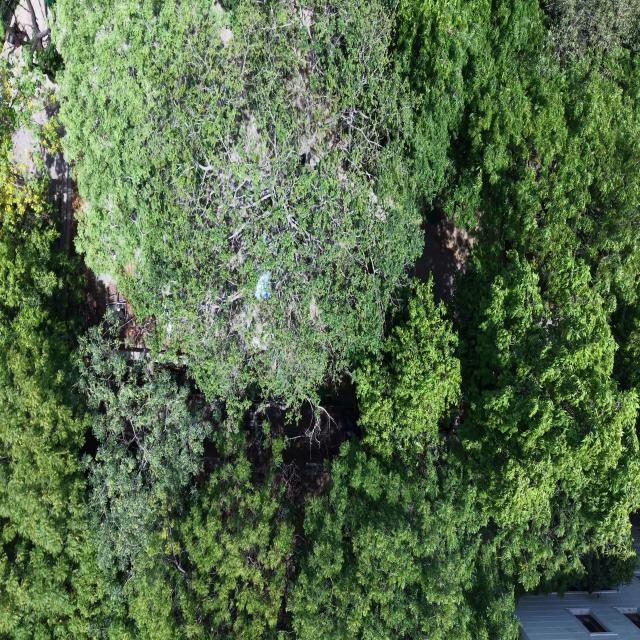VEGETATION_TREE: (0, 0, 639, 639), (59, 0, 420, 401), (444, 3, 639, 589), (80, 317, 294, 637), (0, 59, 106, 638), (458, 250, 639, 588), (290, 443, 517, 639), (130, 431, 299, 638), (79, 312, 210, 571), (353, 279, 460, 465), (0, 0, 62, 81)
